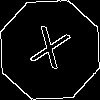X: (25, 25, 72, 80)
